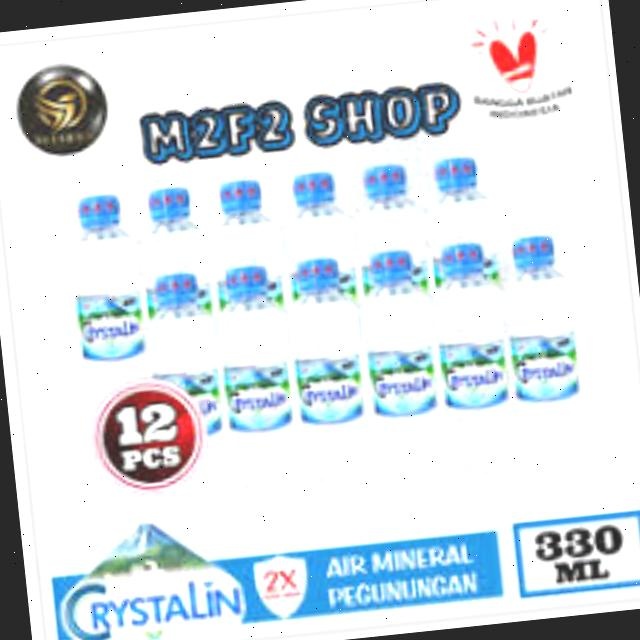trash: (112, 269, 240, 526), (495, 228, 605, 480), (416, 238, 518, 500), (54, 192, 158, 437), (361, 244, 455, 503), (208, 260, 302, 518), (290, 253, 384, 508), (276, 162, 365, 349), (424, 145, 511, 315), (147, 190, 224, 374), (218, 172, 295, 355), (347, 154, 442, 298)
